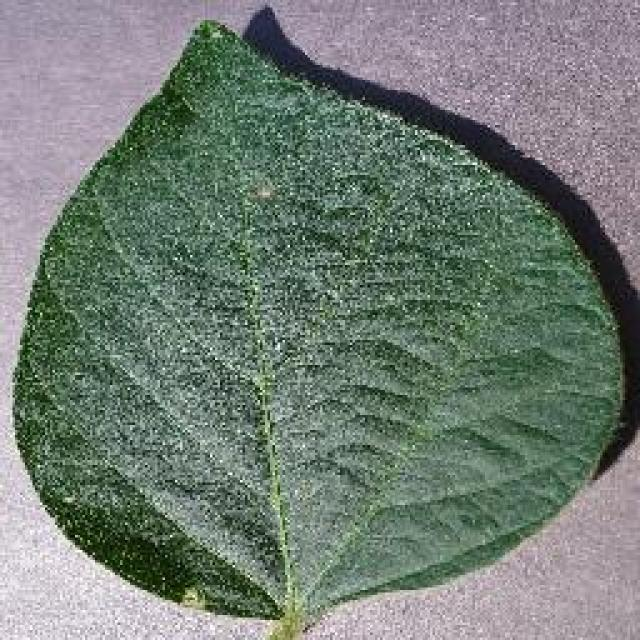Soy_healthy: (25, 66, 590, 574)
